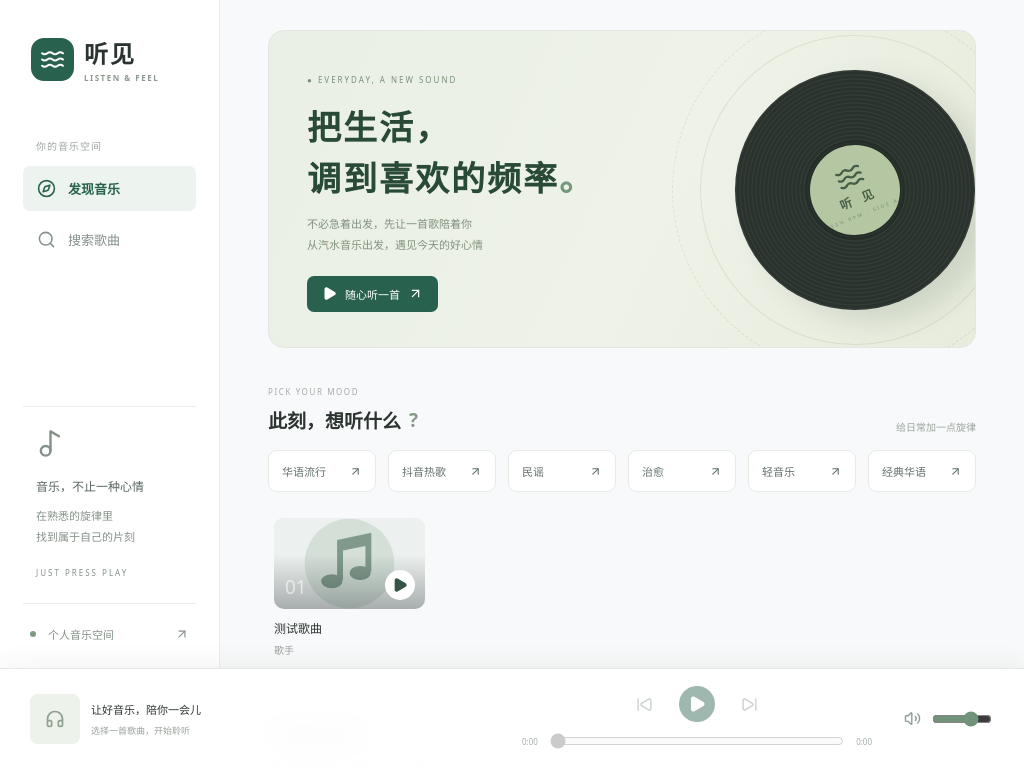
credits DataShare in the page footer and about dialog
Step 1. Click the button with class "side-foot" → (110, 626), box [23,603,196,648]
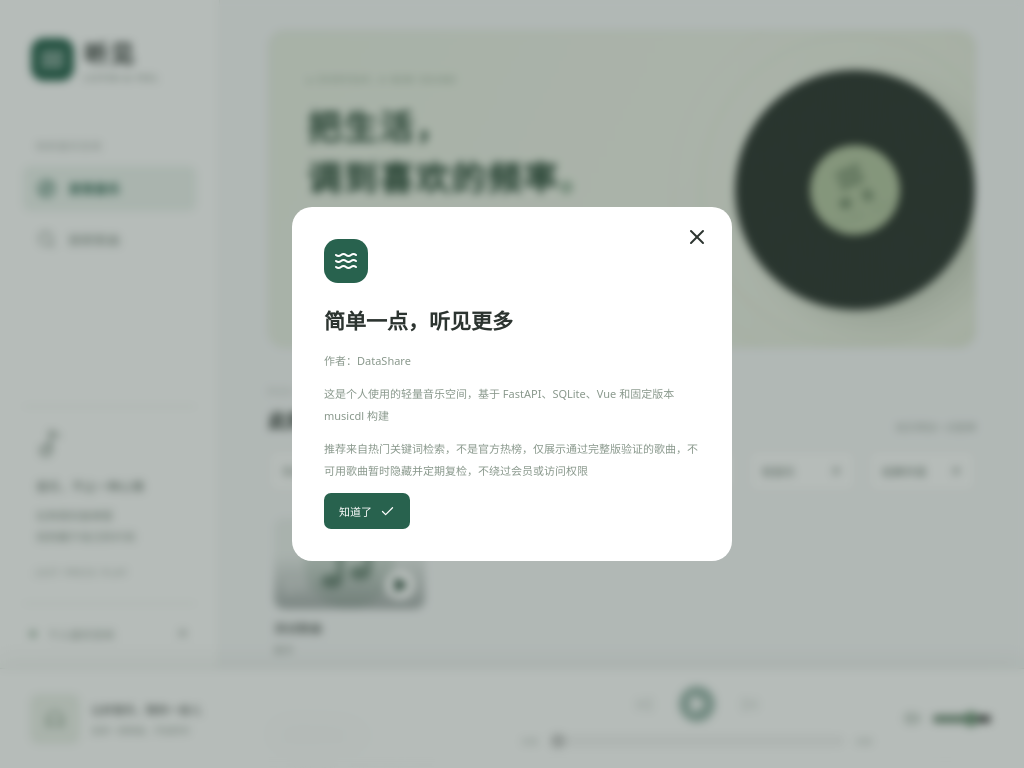
Now the dialog shows "作者：DataShare", box [324,353,411,368]
